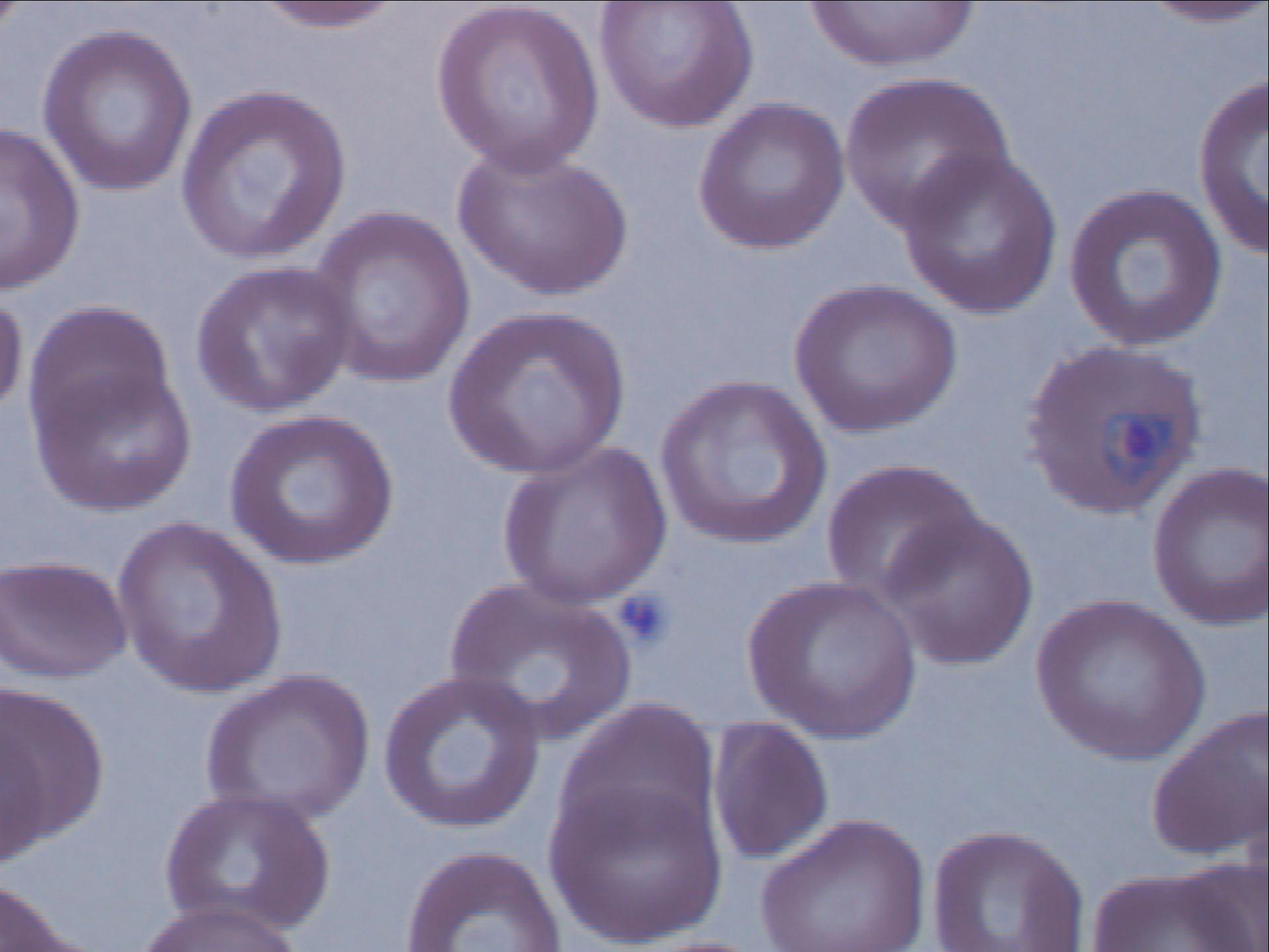Infected: (1032, 345, 1200, 512)
Uninfected: (826, 466, 1029, 664), (551, 706, 716, 937), (30, 309, 186, 507), (454, 587, 629, 742), (845, 82, 1019, 236), (661, 384, 825, 545), (183, 95, 342, 256), (451, 318, 618, 471), (120, 527, 276, 690), (750, 585, 913, 739), (1037, 603, 1197, 758), (440, 11, 597, 168), (319, 215, 469, 377), (507, 448, 662, 602), (900, 156, 1054, 308), (232, 419, 389, 565), (46, 34, 190, 188), (796, 287, 951, 430), (387, 681, 540, 824), (1071, 193, 1219, 340), (208, 676, 363, 816), (460, 161, 623, 293), (763, 821, 920, 949), (201, 271, 347, 408), (701, 106, 843, 246), (169, 798, 323, 927), (601, 3, 746, 123), (935, 835, 1077, 951), (716, 723, 825, 856)
